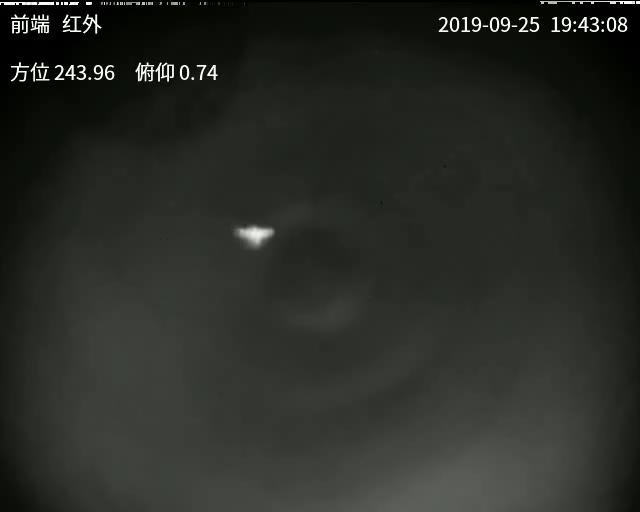uav: (231, 221, 273, 247)
